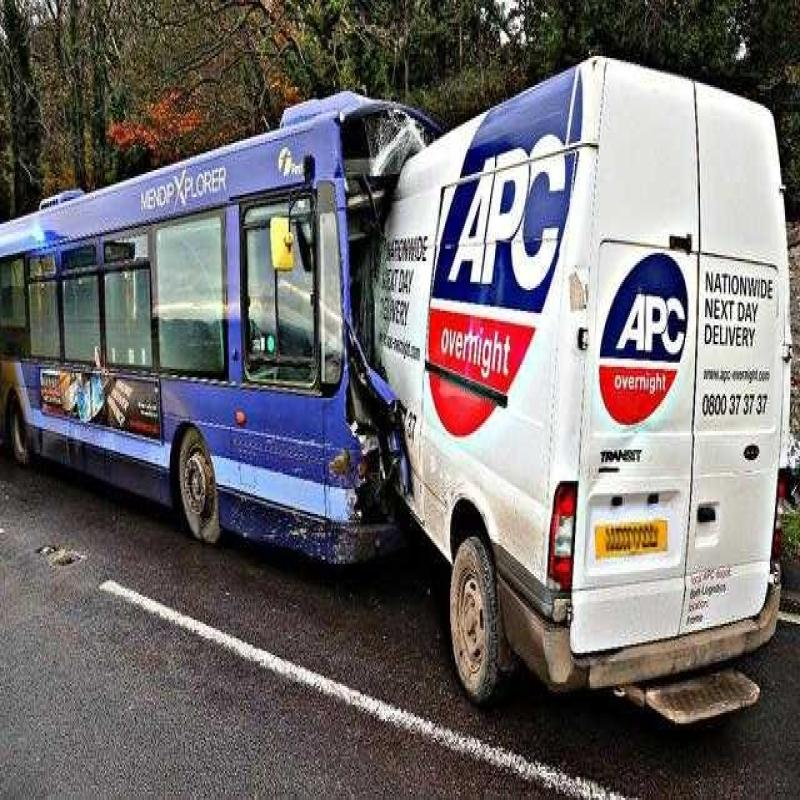bus: (10, 111, 436, 612)
